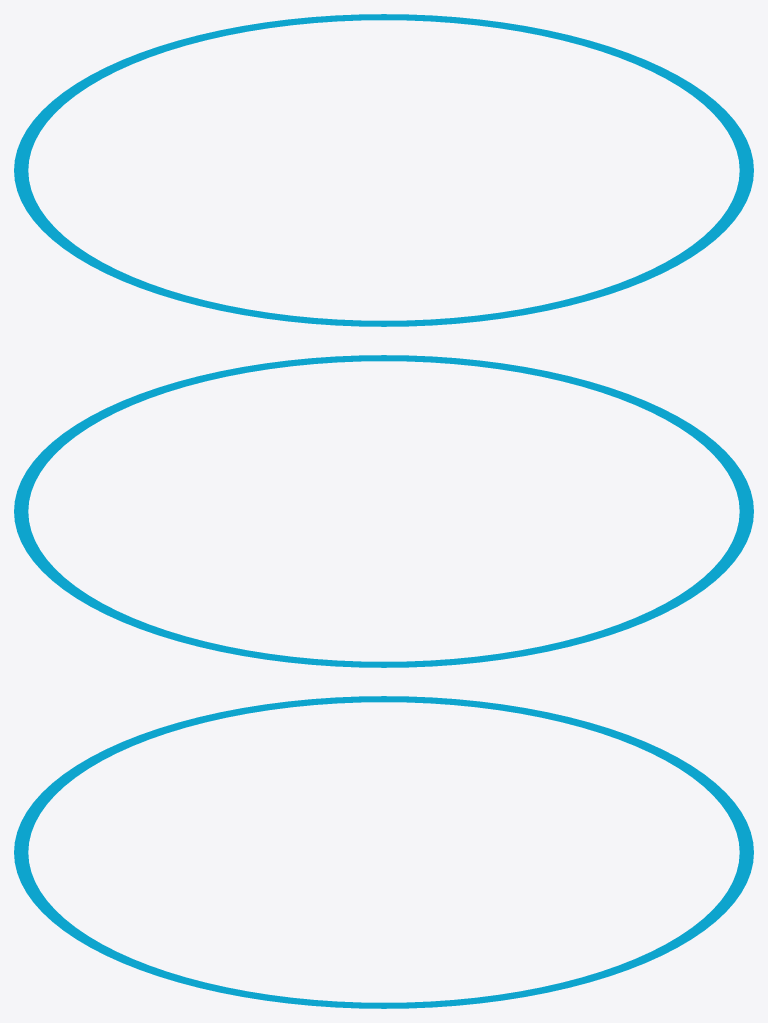
Rendered from play_area.fbx.
The picture shows the model from 3 angles, top to bottom: view 1: azimuth 30°, elevation 25°; view 2: azimuth 150°, elevation 25°; view 3: azimuth 270°, elevation 25°; orthographic projection.
Visible parts, largest first — view 1: play_area; view 2: play_area; view 3: play_area.
Boxes of the visible parts, x1,y1,x2,y2 form: play_area: (14, 14, 753, 326); play_area: (14, 355, 753, 667); play_area: (14, 696, 753, 1008).
Bounding box in the file's own units: 517 × 0 × 517.
